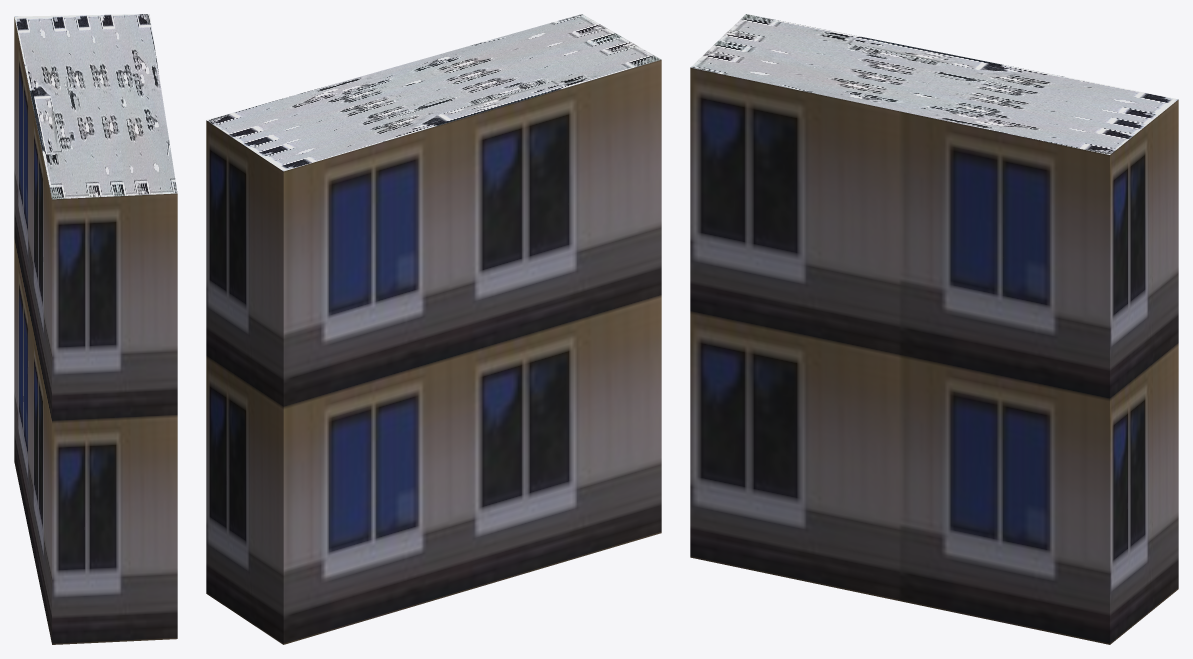
Rendered from ResTex__2078.fbx.
The picture shows the model from 3 angles, left to right: view 1: azimuth 30°, elevation 25°; view 2: azimuth 150°, elevation 25°; view 3: azimuth 270°, elevation 25°; orthographic projection. The views are drawn at different scales.
Visible parts, largest first — view 1: CityEngineMaterial_5_m, CityEngineMaterial_4_m; view 2: CityEngineMaterial_5_m, CityEngineMaterial_4_m; view 3: CityEngineMaterial_5_m, CityEngineMaterial_4_m.
Part boxes in pixels (bbox=[...]): CityEngineMaterial_5_m: bbox=[14, 17, 177, 644]; CityEngineMaterial_4_m: bbox=[14, 14, 177, 199]; CityEngineMaterial_5_m: bbox=[206, 59, 661, 644]; CityEngineMaterial_4_m: bbox=[206, 14, 660, 171]; CityEngineMaterial_5_m: bbox=[690, 67, 1178, 644]; CityEngineMaterial_4_m: bbox=[690, 14, 1178, 154].
Size of the model in its own units: 3.71 by 6 by 5.42.
Materials: 2 (2 with a texture image).
